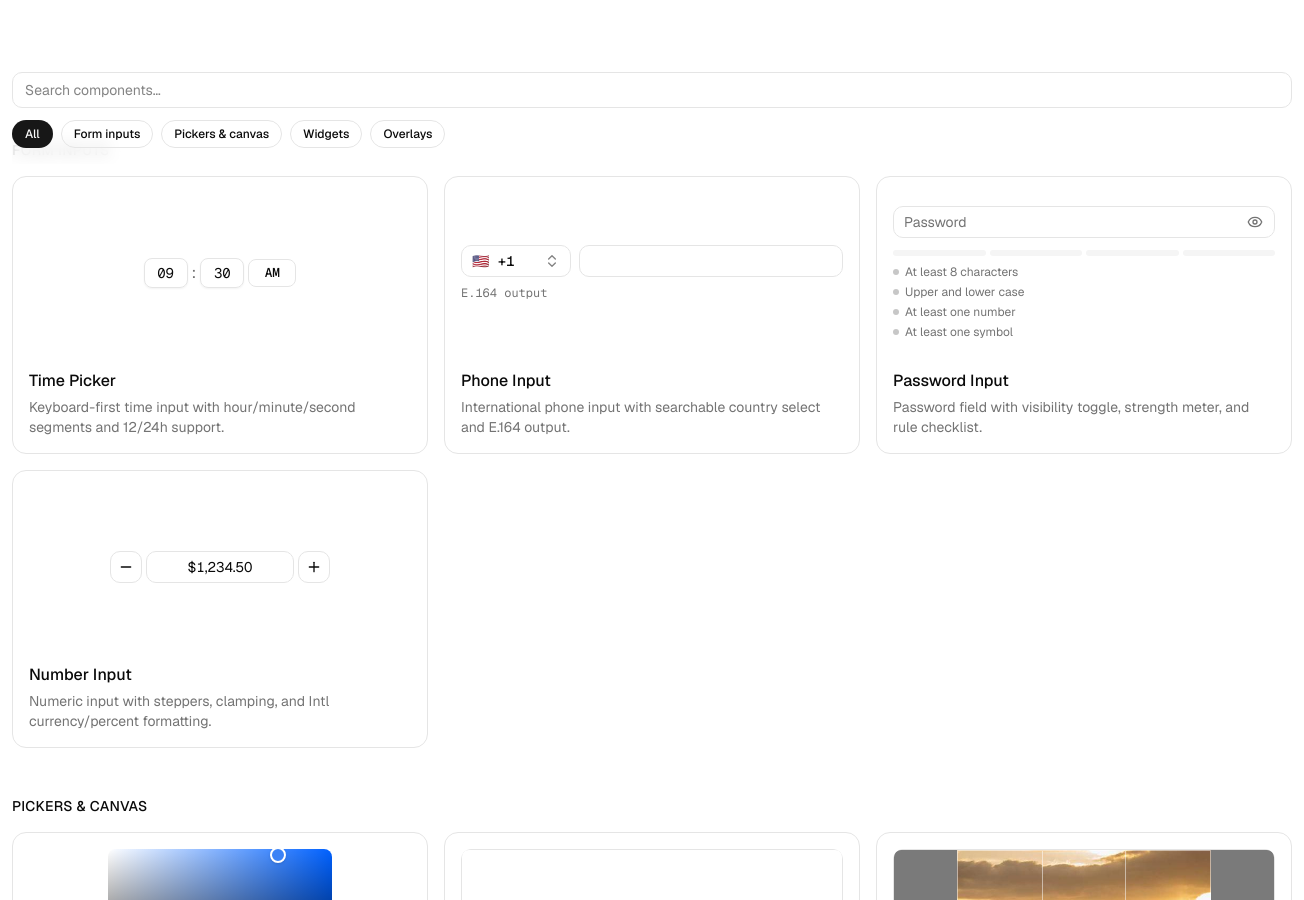
Test case: ComponentGallery › category pill filters to that category and composes with search
Click the button "Widgets" at (326, 134), box [290,120,362,148]
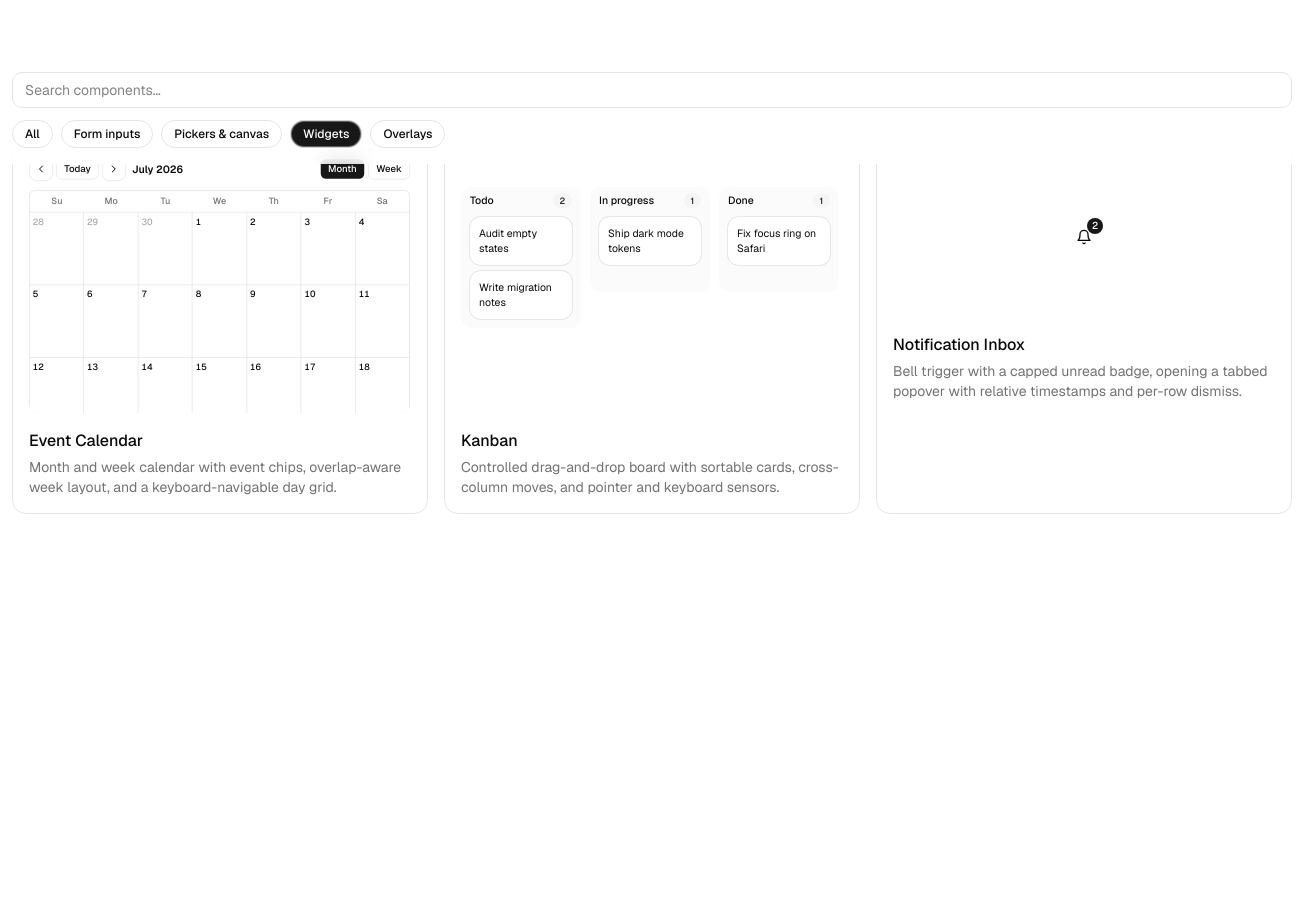
Now the number of links named "Open Event Calendar docs" is 3, box [13,141,427,513]; [445,141,859,513]; [877,141,1291,513]
Pill AND search, not pill OR search.
Type "kanban" into the search field labelled "Search components…" at (652, 90), box [12,72,1292,108]
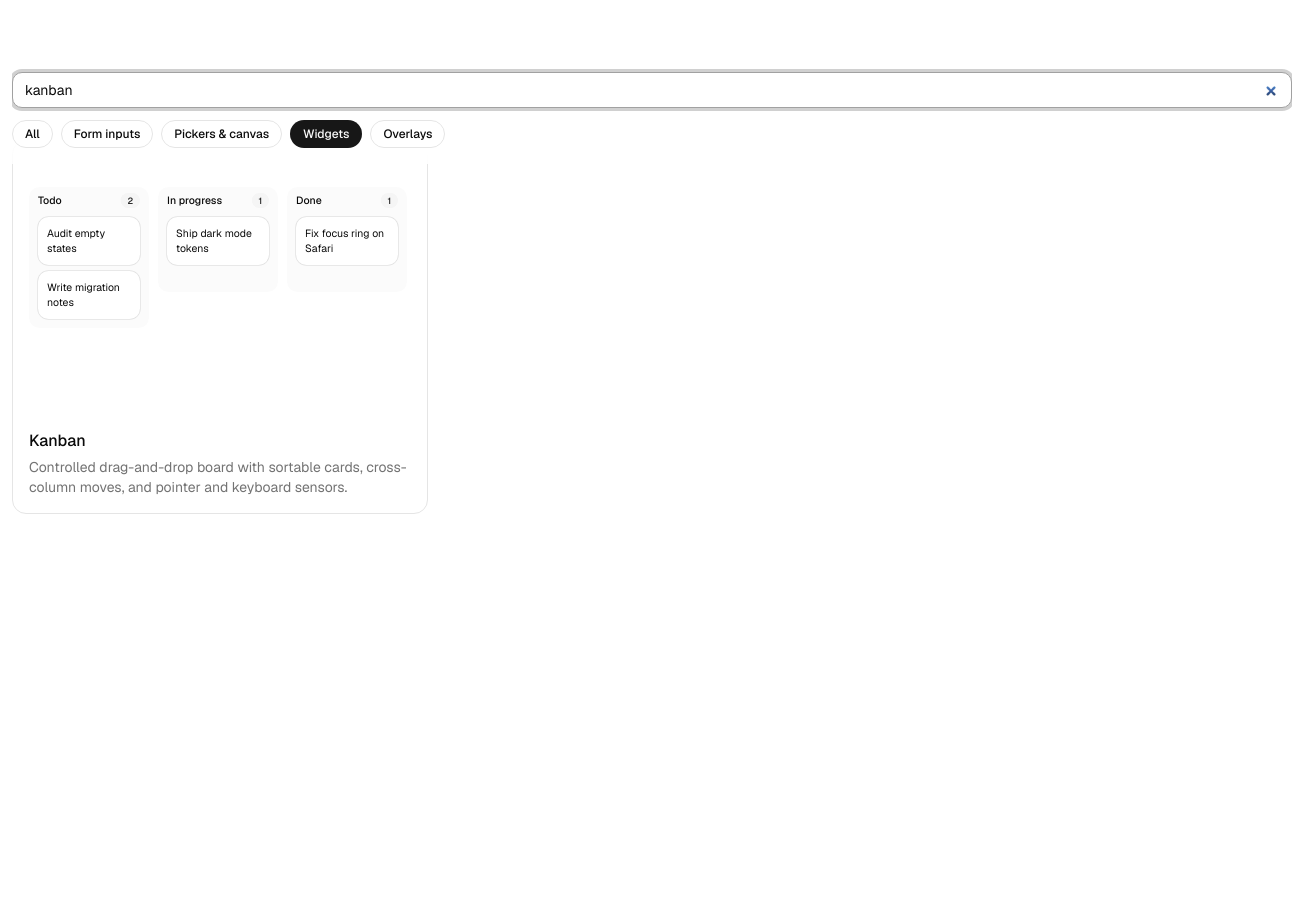
Now the number of links named "Open Kanban docs" is 1, box [13,141,427,513]
Replace the text in the search field named "Search" with "phone" at (652, 90), box [12,72,1292,108]
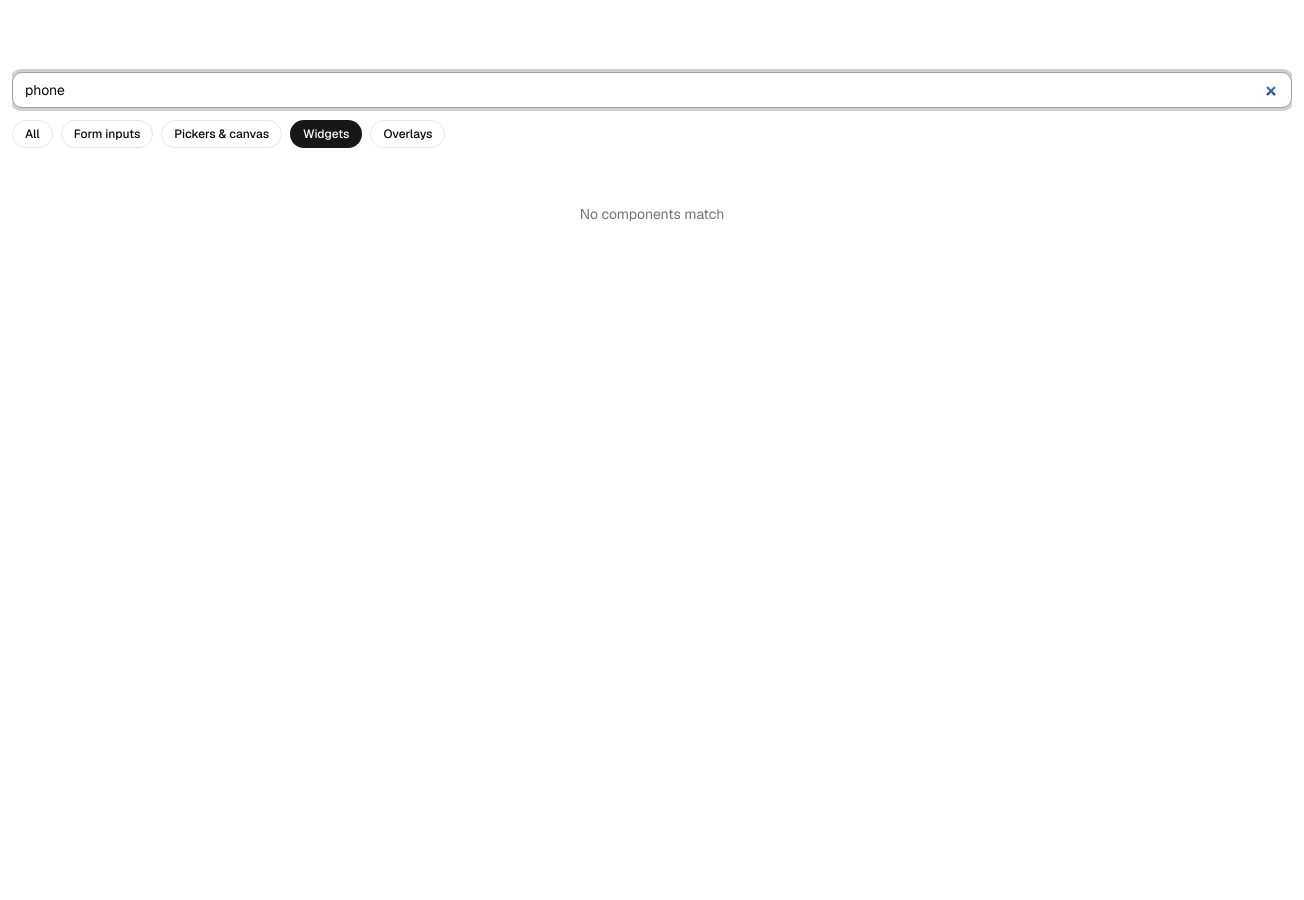
Now the text "No components match" is shown, box [580,205,724,223]
